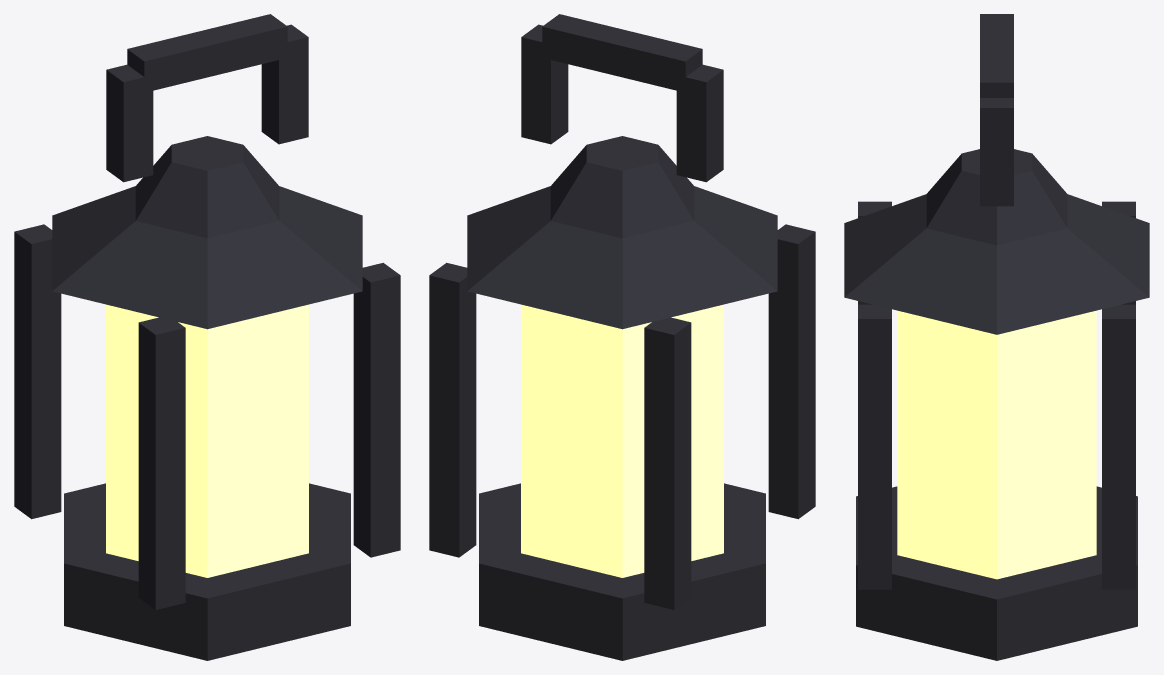
File: lampiao.glb
3 views of the same model, side by side, from view 1: azimuth 30°, elevation 25°; view 2: azimuth 150°, elevation 25°; view 3: azimuth 270°, elevation 25° (orthographic).
Visible parts, largest first — view 1: lampiao; view 2: lampiao; view 3: lampiao.
Boxes of the visible parts, left/top/right/bottom form: lampiao: left=14, top=14, right=400, bottom=660; lampiao: left=429, top=14, right=815, bottom=660; lampiao: left=844, top=14, right=1149, bottom=660.
Size of the model in its own units: 0.26 by 0.4425 by 0.2252.
